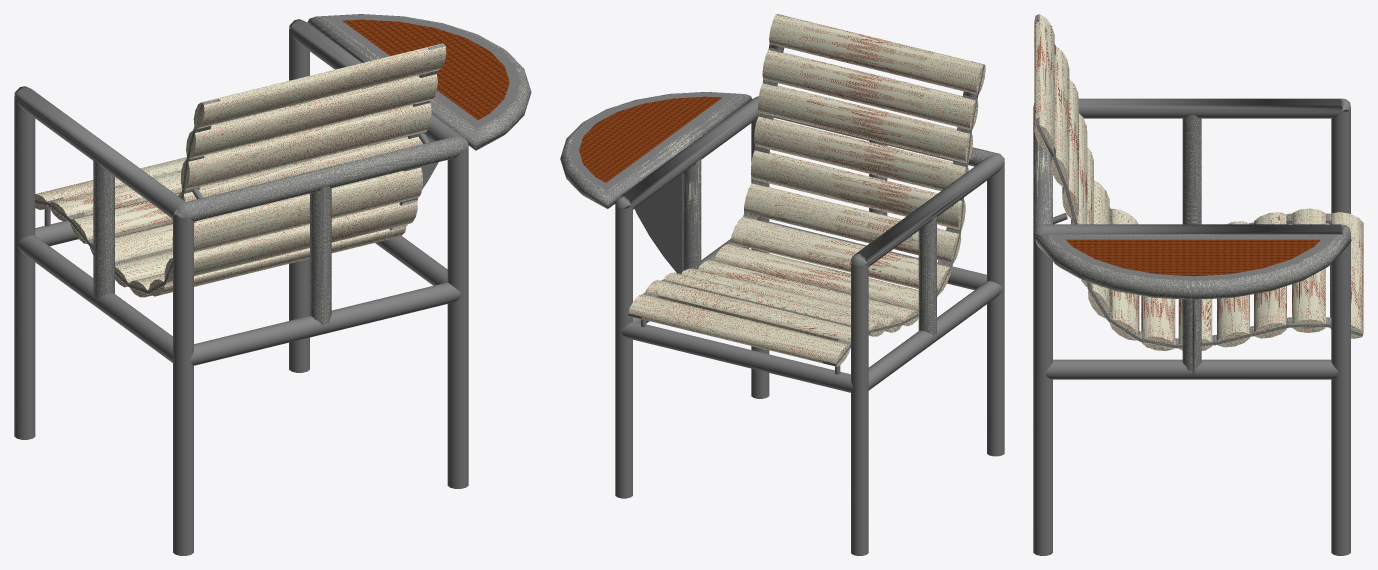
3 views of the same model, side by side, from view 1: azimuth 30°, elevation 25°; view 2: azimuth 150°, elevation 25°; view 3: azimuth 270°, elevation 25° (orthographic). The views are drawn at different scales.
Parts seen in each view (by area): view 1: mesh10_mesh10-geometry, mesh1_mesh1-geometry, mesh9_mesh9-geometry, mesh4_mesh4-geometry, mesh75_mesh75-geometry, mesh5_mesh5-geometry, mesh8_mesh8-geometry, mesh3_mesh3-geometry, mesh11_mesh11-geometry; view 2: mesh10_mesh10-geometry, mesh1_mesh1-geometry, mesh9_mesh9-geometry, mesh4_mesh4-geometry, mesh5_mesh5-geometry, mesh8_mesh8-geometry, mesh3_mesh3-geometry, mesh76_mesh76-geometry, mesh11_mesh11-geometry, mesh75_mesh75-geometry; view 3: mesh10_mesh10-geometry, mesh9_mesh9-geometry, mesh1_mesh1-geometry, mesh4_mesh4-geometry, mesh8_mesh8-geometry, mesh5_mesh5-geometry, mesh3_mesh3-geometry, mesh11_mesh11-geometry, mesh75_mesh75-geometry.
Part boxes in pixels (left/top/right/bottom): mesh10_mesh10-geometry: left=35, top=43, right=446, bottom=297; mesh1_mesh1-geometry: left=14, top=32, right=468, bottom=555; mesh9_mesh9-geometry: left=307, top=14, right=531, bottom=150; mesh4_mesh4-geometry: left=17, top=221, right=460, bottom=365; mesh75_mesh75-geometry: left=184, top=136, right=463, bottom=221; mesh5_mesh5-geometry: left=93, top=140, right=389, bottom=325; mesh8_mesh8-geometry: left=14, top=86, right=188, bottom=218; mesh3_mesh3-geometry: left=289, top=19, right=468, bottom=150; mesh11_mesh11-geometry: left=35, top=43, right=444, bottom=293; mesh10_mesh10-geometry: left=628, top=14, right=985, bottom=366; mesh1_mesh1-geometry: left=615, top=119, right=1004, bottom=555; mesh9_mesh9-geometry: left=560, top=92, right=752, bottom=208; mesh4_mesh4-geometry: left=621, top=221, right=1002, bottom=392; mesh5_mesh5-geometry: left=683, top=140, right=936, bottom=335; mesh8_mesh8-geometry: left=851, top=153, right=1004, bottom=266; mesh3_mesh3-geometry: left=615, top=96, right=759, bottom=209; mesh76_mesh76-geometry: left=634, top=173, right=682, bottom=273; mesh11_mesh11-geometry: left=628, top=14, right=984, bottom=366; mesh75_mesh75-geometry: left=774, top=116, right=997, bottom=166; mesh10_mesh10-geometry: left=1034, top=14, right=1363, bottom=350; mesh9_mesh9-geometry: left=1035, top=234, right=1351, bottom=299; mesh1_mesh1-geometry: left=1033, top=110, right=1350, bottom=555; mesh4_mesh4-geometry: left=1046, top=359, right=1338, bottom=379; mesh8_mesh8-geometry: left=1033, top=98, right=1350, bottom=118; mesh5_mesh5-geometry: left=1182, top=115, right=1201, bottom=370; mesh3_mesh3-geometry: left=1033, top=224, right=1350, bottom=237; mesh11_mesh11-geometry: left=1036, top=14, right=1363, bottom=348; mesh75_mesh75-geometry: left=1033, top=104, right=1052, bottom=233.
Bounding box in the file's own units: 0.6191 × 0.6381 × 0.455.
